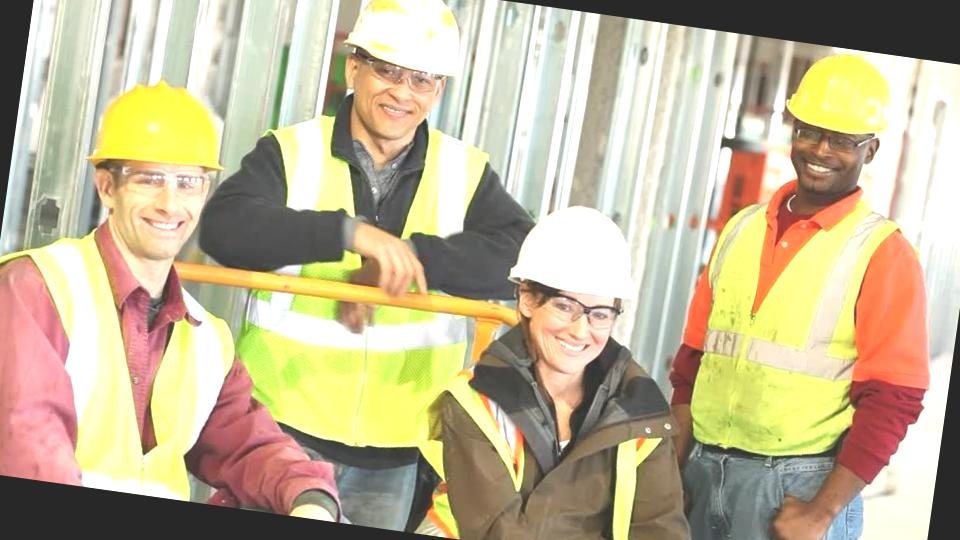helmet: (80, 61, 241, 188), (504, 182, 653, 310), (766, 43, 916, 154), (329, 0, 486, 93)
person: (652, 40, 960, 527), (259, 0, 505, 466), (0, 56, 255, 503), (435, 181, 686, 540)
